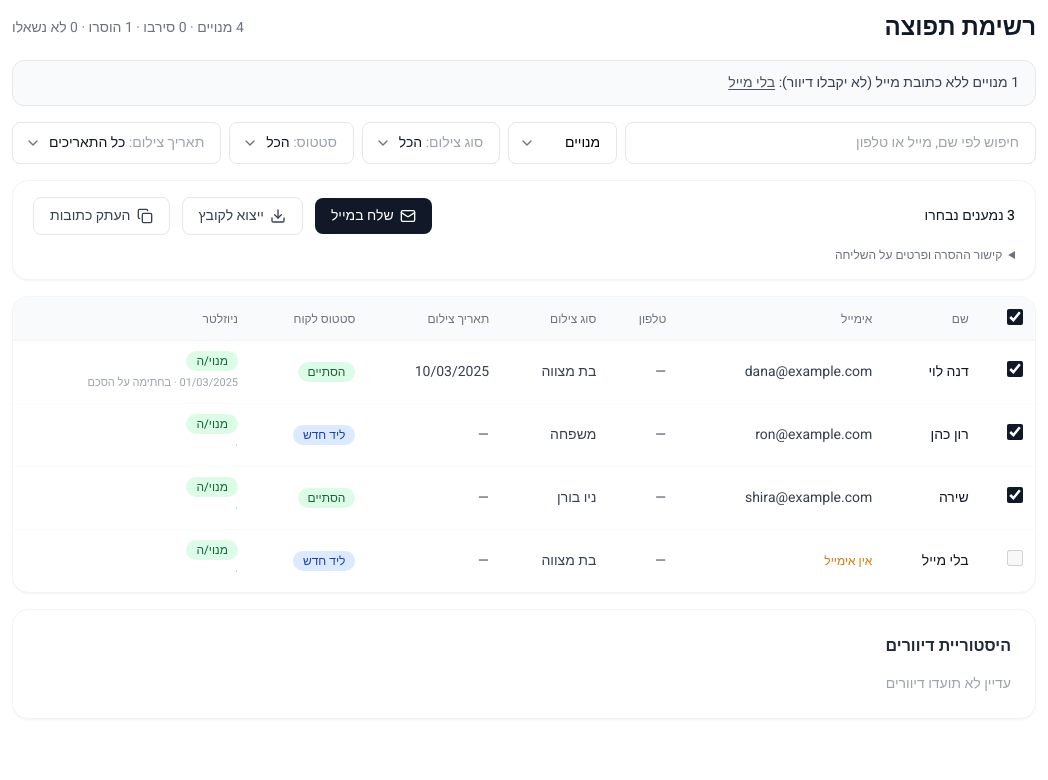
Test: MailingList › shows unsubscribed clients when that filter is chosen, and they cannot be selected
The width and height of the screenshot is (1048, 780).
Select "הוסרו" in the dropdown named "סטטוס ניוזלטר" at (563, 143), box [508,122,617,164]
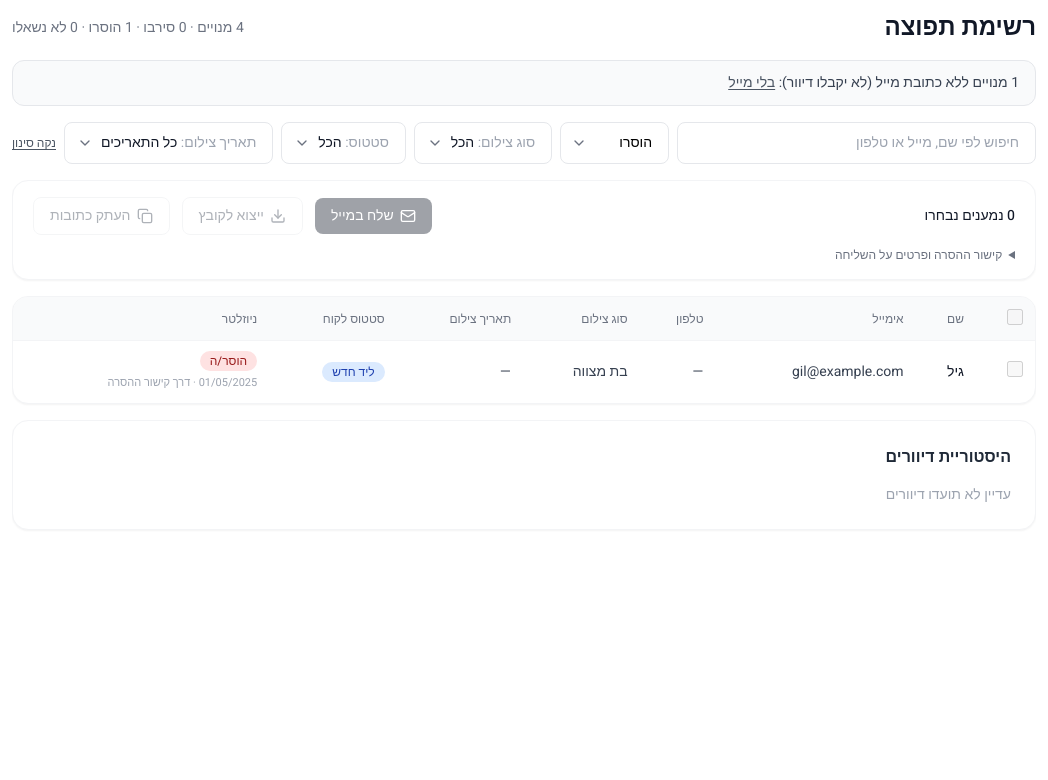
Now the button "גיל" is shown, box [947,362,964,382]
Now the text "01/05/2025 · דרך קישור ההסרה" is shown, box [108,373,257,393]
Now the checkbox named "בחר את גיל" is disabled, box [1007,361,1023,377]
